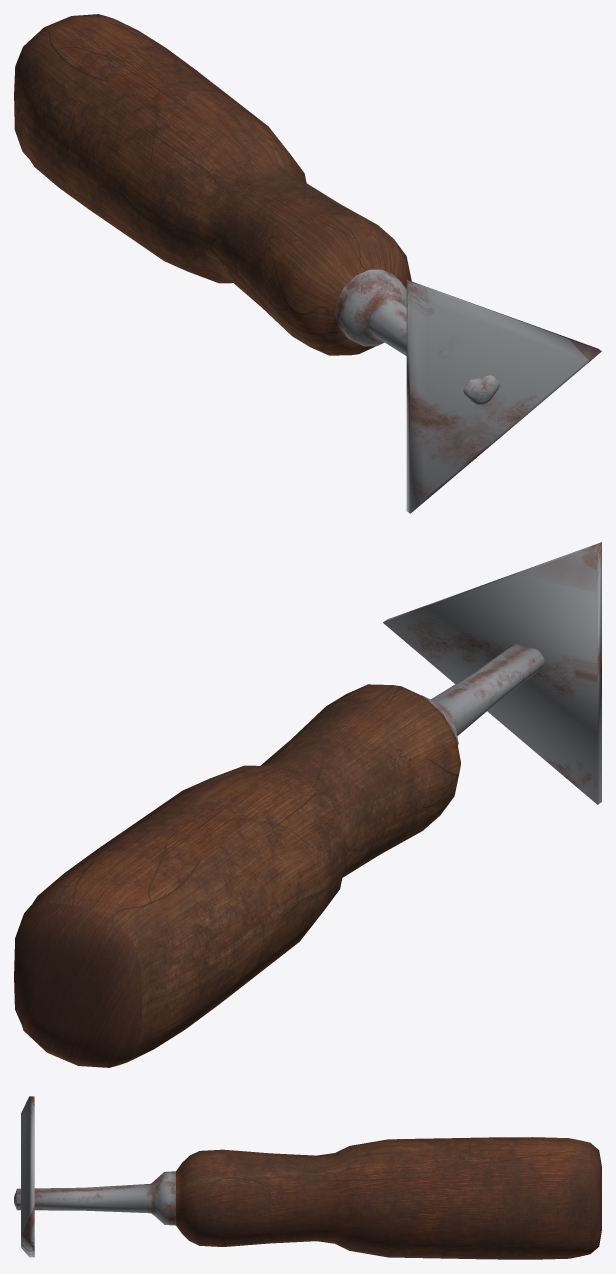
Rendered from ToolChiselTriangle.obj.
3 renders of one model, top to bottom at view 1: azimuth 30°, elevation 25°; view 2: azimuth 150°, elevation 25°; view 3: azimuth 270°, elevation 25°, orthographic. The views are drawn at different scales.
Parts seen in each view (by area): view 1: ToolChiselTriangle, ToolChiselTriangleTip; view 2: ToolChiselTriangle, ToolChiselTriangleTip; view 3: ToolChiselTriangle, ToolChiselTriangleTip.
Boxes of the visible parts, <box> form: ToolChiselTriangle: <box>14,14,499,404</box>; ToolChiselTriangleTip: <box>406,280,601,513</box>; ToolChiselTriangle: <box>14,644,544,1067</box>; ToolChiselTriangleTip: <box>383,542,601,804</box>; ToolChiselTriangle: <box>14,1137,601,1259</box>; ToolChiselTriangleTip: <box>21,1096,34,1257</box>.
Size of the model in its own units: 0.172 by 0.1866 by 0.617.
